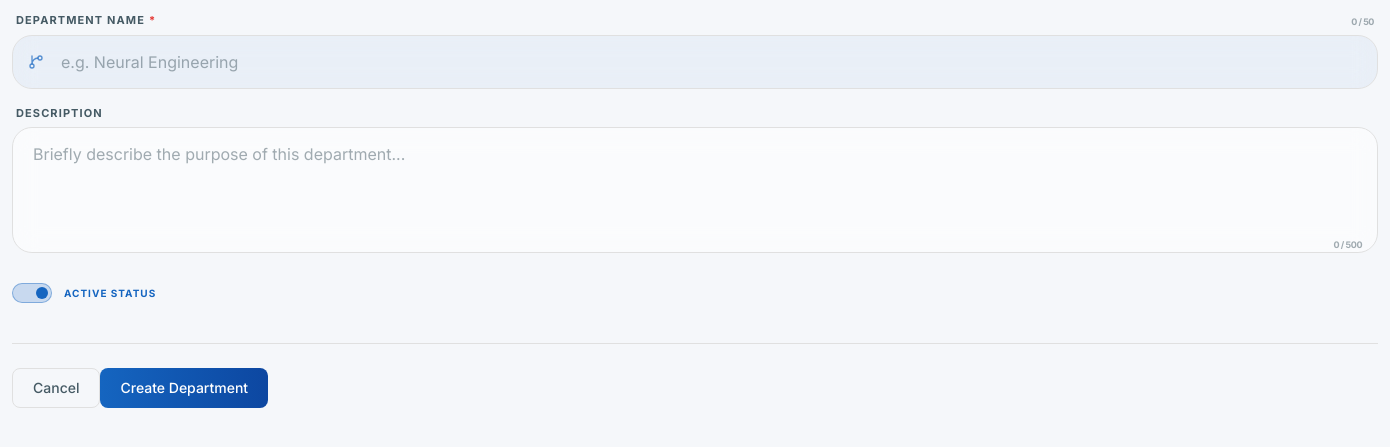
DepartmentForm Component › shows validation error when name is empty
Click the button "Create Department" at (184, 388), box [100,368,268,408]
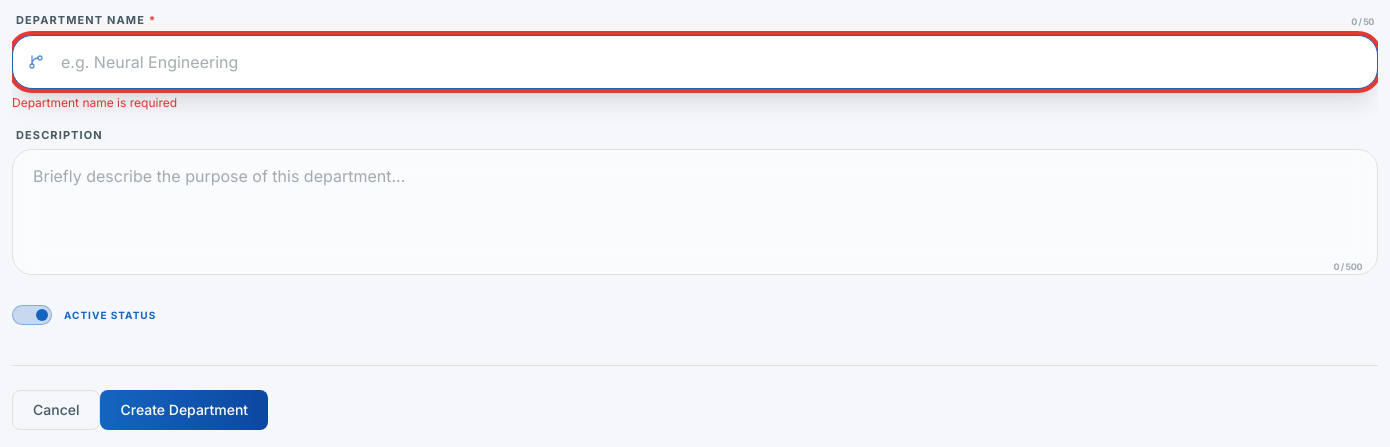
Now the text "Department name is required" is shown, box [12,94,177,110]
